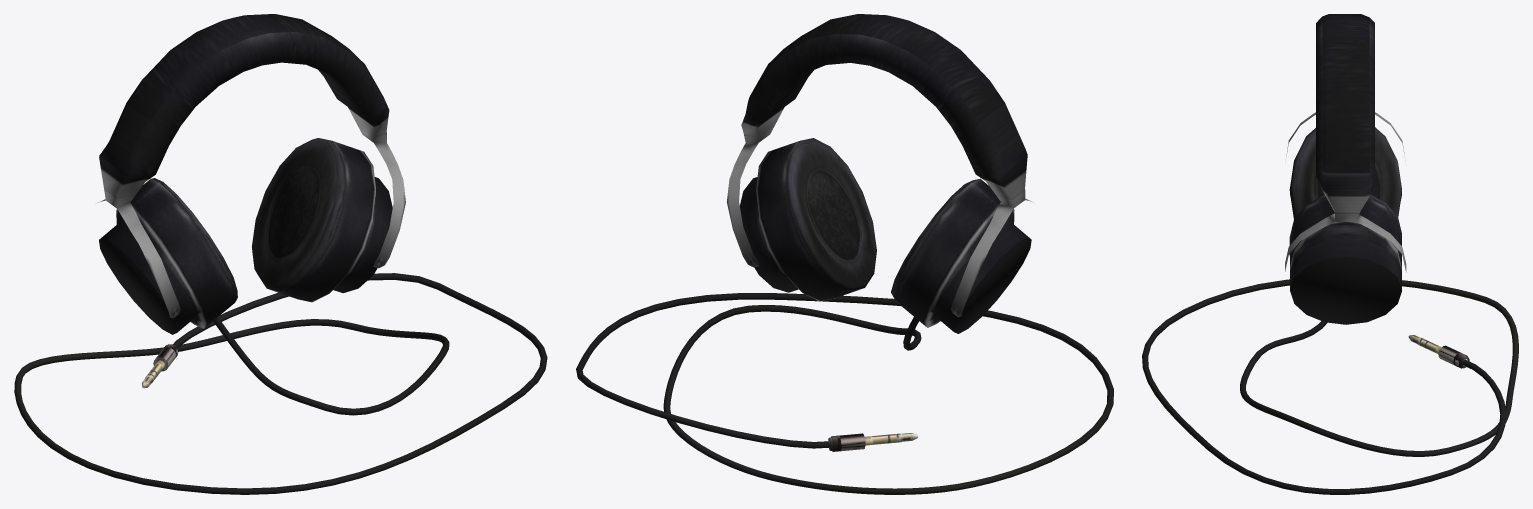
File: headphones.glb
3 renders of one model, left to right at view 1: azimuth 30°, elevation 25°; view 2: azimuth 150°, elevation 25°; view 3: azimuth 270°, elevation 25°, orthographic. The views are drawn at different scales.
Parts seen in each view (by area): view 1: headphones; view 2: headphones; view 3: headphones.
Part boxes in pixels (box(x1,y1,x2,y2)): headphones: box(14, 14, 547, 494); headphones: box(576, 14, 1113, 494); headphones: box(1142, 14, 1518, 494).
Size of the model in its own units: 0.4858 by 0.3871 by 0.3629.
1 material, 1 textured.
